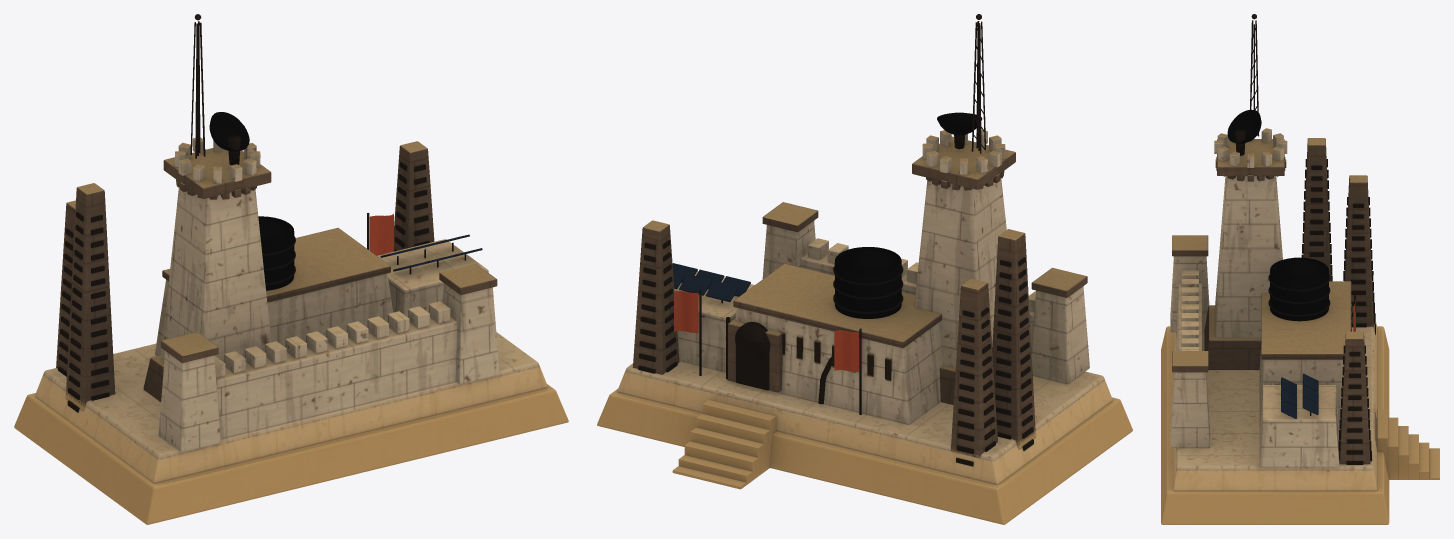
The model's file is outpost.glb.
3 renders of one model, left to right at view 1: azimuth 30°, elevation 25°; view 2: azimuth 150°, elevation 25°; view 3: azimuth 270°, elevation 25°, orthographic. The views are drawn at different scales.
Visible parts, largest first — view 1: Outpost_Body; view 2: Outpost_Body; view 3: Outpost_Body.
Part boxes in pixels (x1,y1,x2,y2): Outpost_Body: [14, 14, 568, 524]; Outpost_Body: [597, 14, 1132, 524]; Outpost_Body: [1161, 14, 1439, 524].
Bounding box in the file's own units: 11.97 × 12.08 × 8.04.
Materials: 1 (1 with a texture image).
